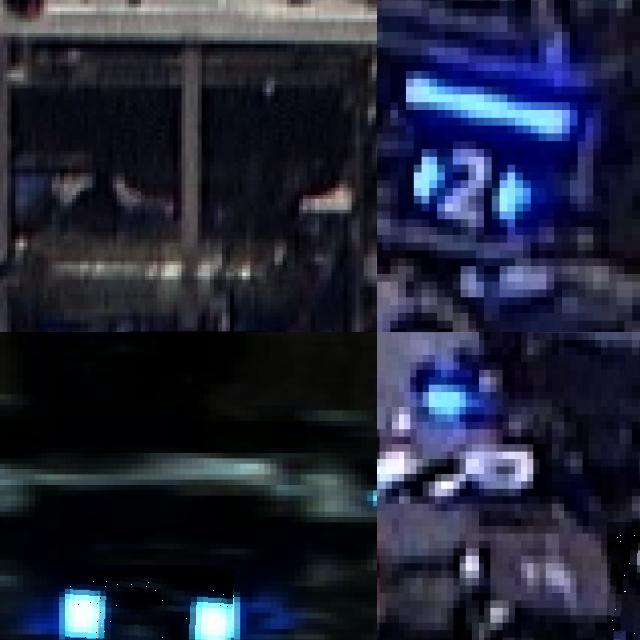B2: (406, 141, 523, 235)
Bs: (65, 570, 234, 640)
